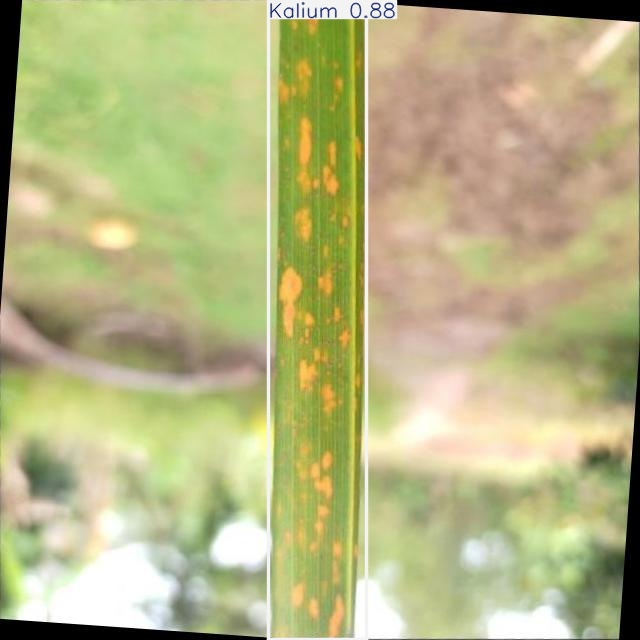Kalium: (268, 0, 366, 640)
